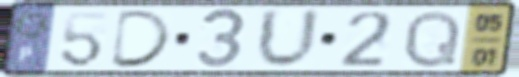2: (337, 9, 396, 69)
3: (194, 5, 248, 73)
5: (58, 9, 112, 68)
D: (106, 8, 176, 70)
Q: (400, 8, 464, 70)
U: (253, 6, 324, 72)
